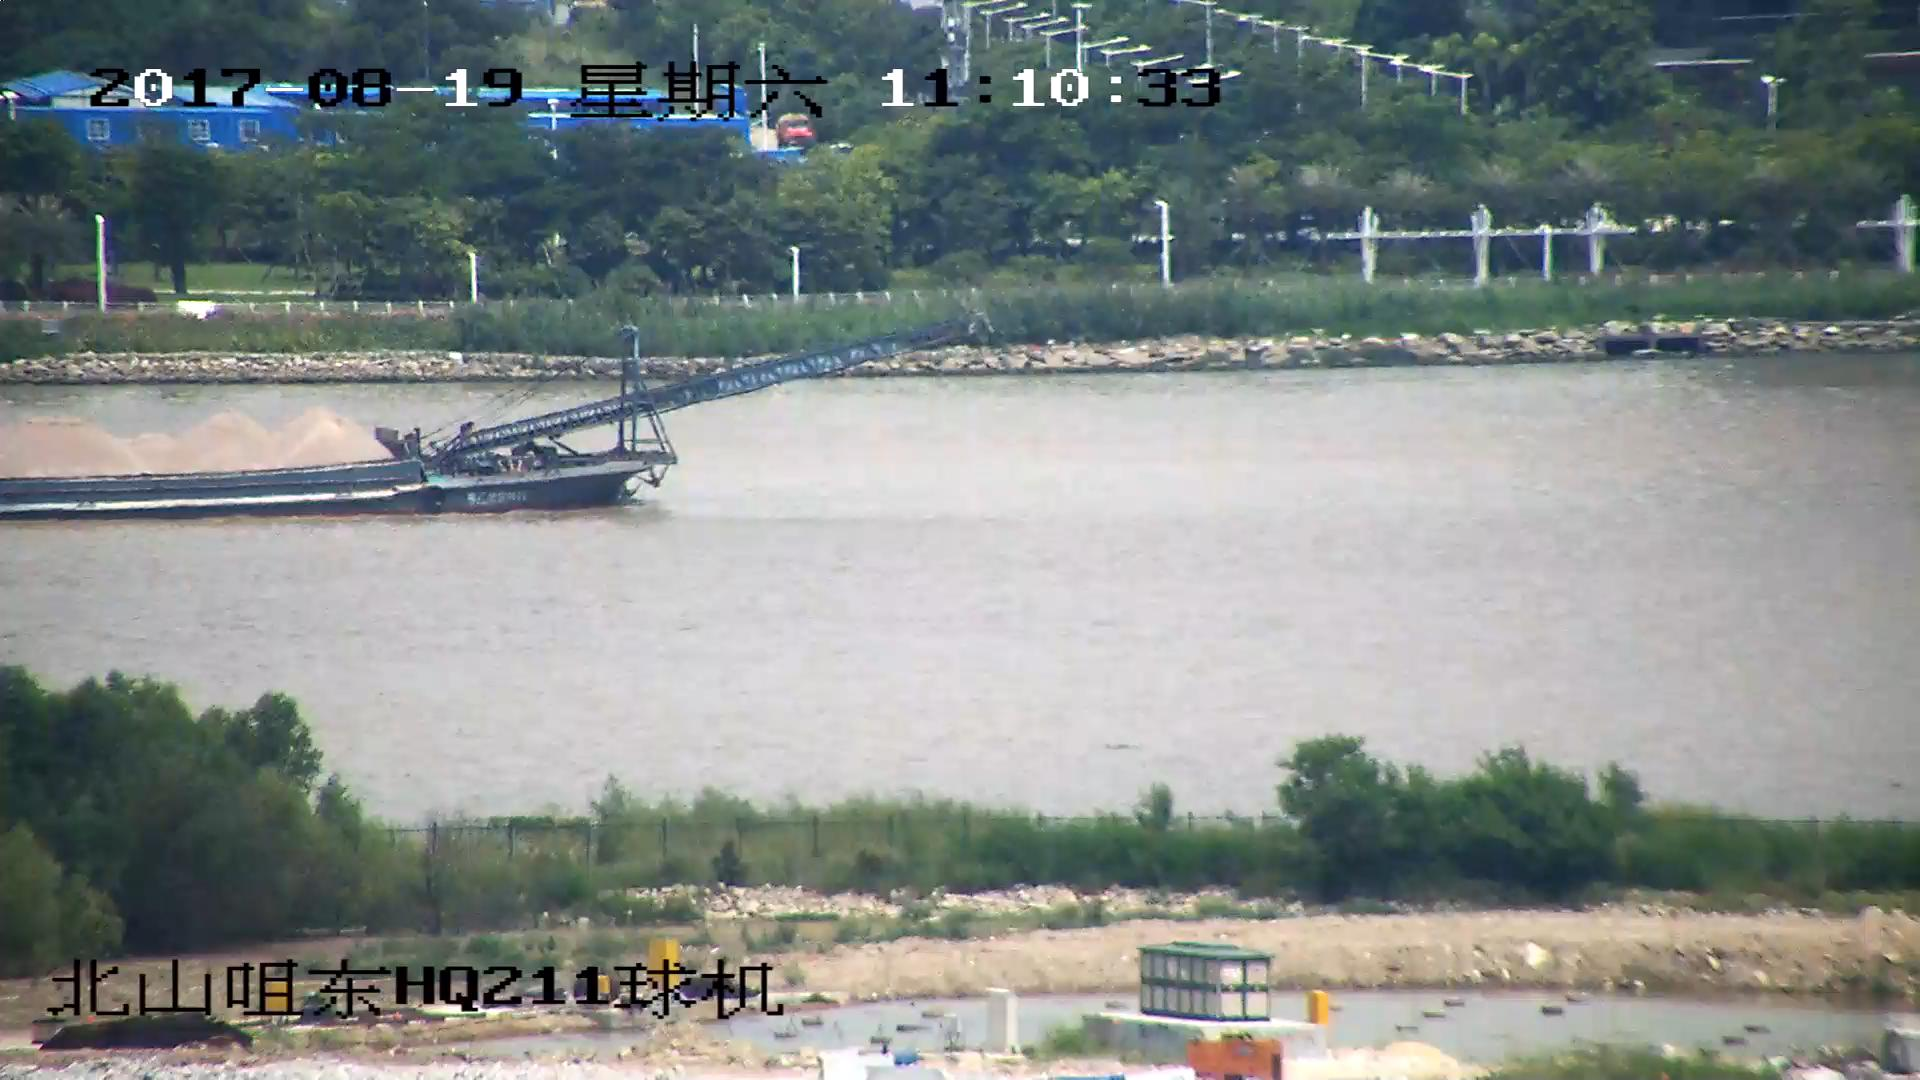ore carrier: (1, 315, 982, 525)
